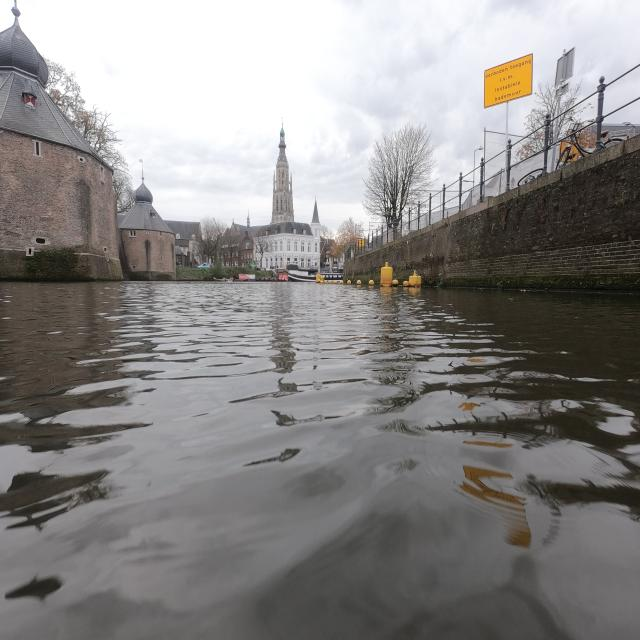grass: (176, 265, 258, 280)
sky: (14, 2, 638, 224)
tree: (363, 123, 436, 231)
wall: (2, 12, 174, 278), (346, 144, 636, 286)
water: (10, 290, 636, 634)
